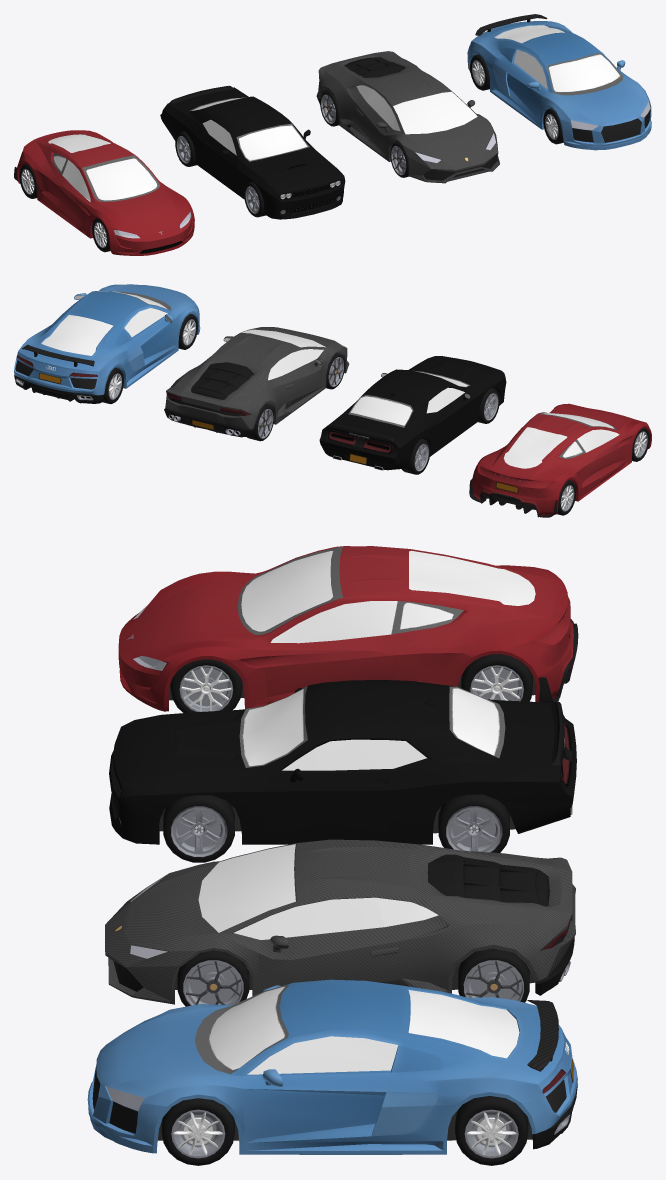
3 views of the same model, one above another, from view 1: azimuth 30°, elevation 25°; view 2: azimuth 150°, elevation 25°; view 3: azimuth 270°, elevation 25° (orthographic). The views are drawn at different scales.
Parts seen in each view (by area): view 1: Audi, Lambo, Dodge, Tesla, DodgeTire.001, AudiTire.001, Huracan.005, TeslaTire.001; view 2: Audi, Lambo, Dodge, Tesla, DodgeTire.001, Huracan.005, AudiTire.001, TeslaTire.001; view 3: Audi, Dodge, Lambo, Tesla, AudiTire.001, DodgeTire.001, Huracan.005, TeslaTire.001.
Boxes of the visible parts, x1=… form: Audi: x1=467, y1=14, x2=651, y2=150; Lambo: x1=316, y1=51, x2=499, y2=183; Dodge: x1=160, y1=85, x2=345, y2=219; Tesla: x1=14, y1=130, x2=194, y2=255; DodgeTire.001: x1=175, y1=131, x2=265, y2=217; AudiTire.001: x1=470, y1=54, x2=563, y2=144; Huracan.005: x1=320, y1=90, x2=408, y2=177; TeslaTire.001: x1=19, y1=164, x2=110, y2=252; Audi: x1=14, y1=284, x2=200, y2=403; Lambo: x1=164, y1=327, x2=349, y2=437; Dodge: x1=319, y1=356, x2=506, y2=470; Tesla: x1=469, y1=403, x2=651, y2=517; DodgeTire.001: x1=401, y1=388, x2=499, y2=474; Huracan.005: x1=247, y1=353, x2=344, y2=441; AudiTire.001: x1=102, y1=314, x2=197, y2=403; TeslaTire.001: x1=557, y1=427, x2=649, y2=515; Audi: x1=87, y1=979, x2=577, y2=1154; Dodge: x1=109, y1=680, x2=576, y2=844; Lambo: x1=105, y1=839, x2=575, y2=1004; Tesla: x1=118, y1=546, x2=578, y2=711; AudiTire.001: x1=161, y1=1096, x2=528, y2=1165; DodgeTire.001: x1=163, y1=794, x2=509, y2=862; Huracan.005: x1=177, y1=948, x2=529, y2=1006; TeslaTire.001: x1=170, y1=654, x2=532, y2=712.
Bounding box in the file's own units: 13.22 × 1.47 × 5.17.
Materials: 5 (5 with a texture image).
